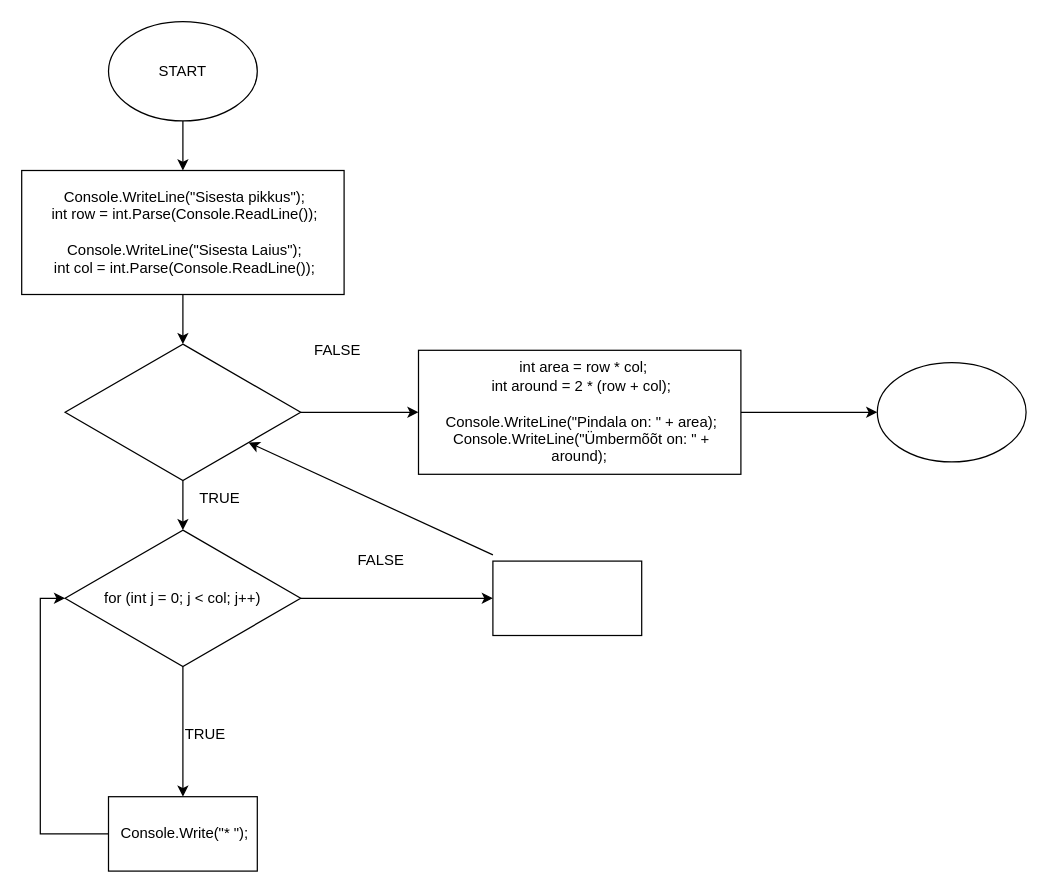
This 1048x893 diagram has some shape labels left out. Each missing label, with the centre of its shape:
Console.WriteLine();: point (567, 598)
END: point (951, 411)
for (int i = 0; i < row; i++): point (182, 411)
